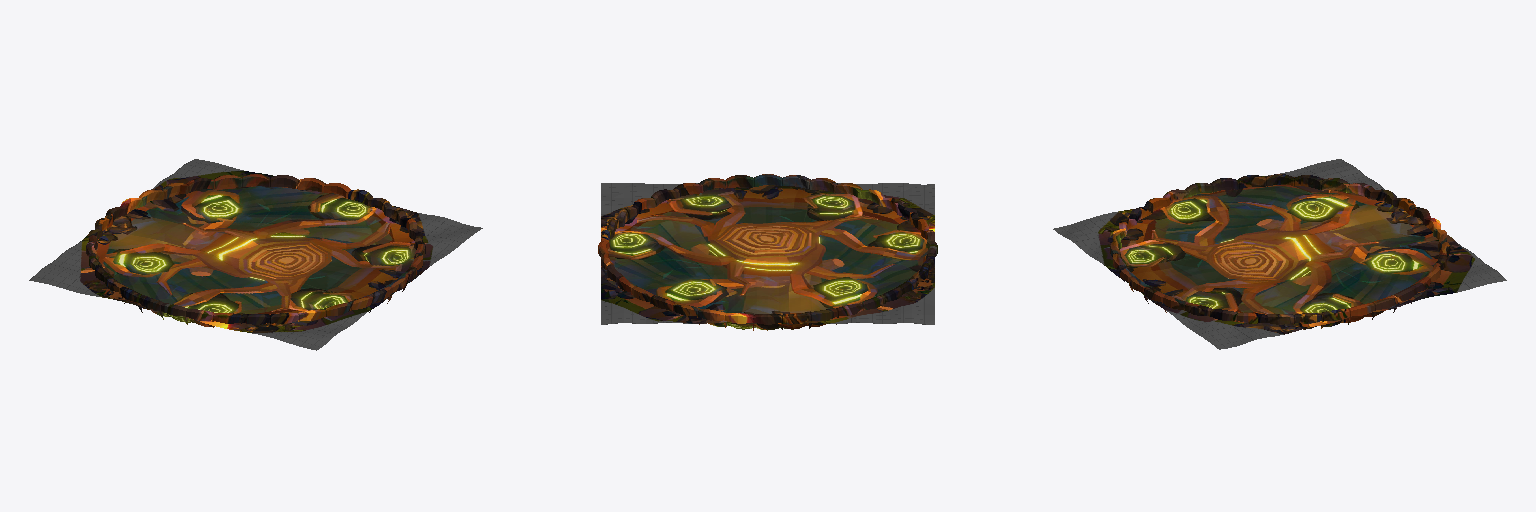
3 views of the same model, side by side, from view 1: azimuth 30°, elevation 25°; view 2: azimuth 150°, elevation 25°; view 3: azimuth 270°, elevation 25° (orthographic).
Visible parts, largest first — view 1: water2_water2Shape, border_borderShape; view 2: water2_water2Shape, border_borderShape; view 3: water2_water2Shape, border_borderShape.
Part boxes in pixels (bbox=[...]): water2_water2Shape: bbox=[29, 159, 482, 350]; border_borderShape: bbox=[86, 174, 425, 327]; water2_water2Shape: bbox=[601, 183, 934, 324]; border_borderShape: bbox=[598, 174, 937, 330]; water2_water2Shape: bbox=[1053, 159, 1506, 349]; border_borderShape: bbox=[1110, 174, 1449, 329].
Size of the model in its own units: 73.55 by 4.16 by 73.55.
Materials: 2 (1 with a texture image).